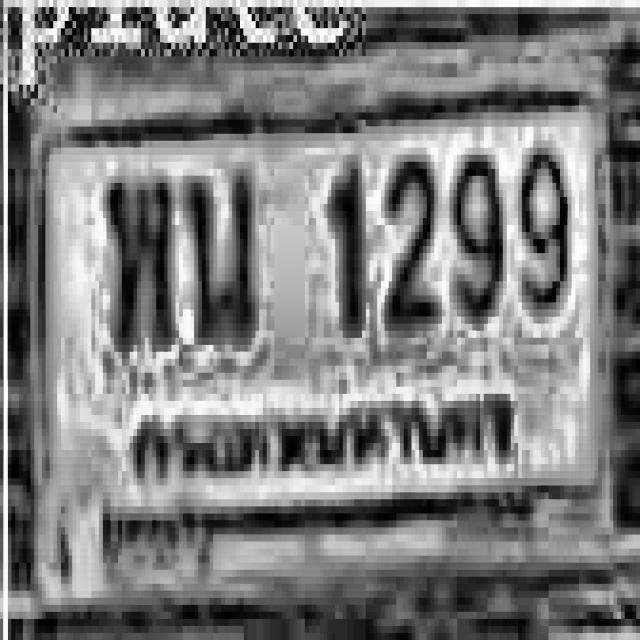license-plate: (31, 61, 637, 584)
